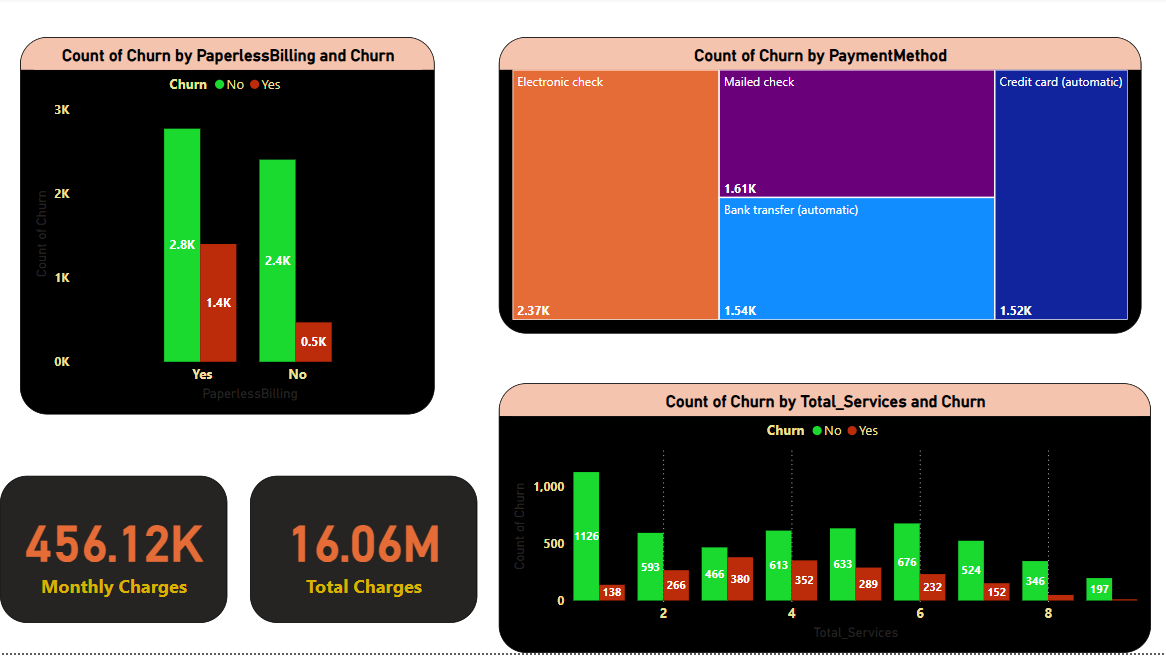

What the dashboard file says about the page in this screenshot:
{"tool":"powerbi","page":{"name":"Page 2","canvas":[1280,720],"ordinal":1},"visuals":[{"type":"clusteredColumnChart","fields":{"Category":["Cutomer_churn_analysis.PaperlessBilling"],"Series":["Cutomer_churn_analysis.Churn"],"Y":["CountNonNull(Cutomer_churn_analysis.Churn)"]},"box":[22,43.9,455.6,414.4],"z":0},{"type":"treemap","fields":{"Details":["Cutomer_churn_analysis.PaymentMethod"],"Values":["CountNonNull(Cutomer_churn_analysis.Churn)"]},"box":[547.5,43.9,705.3,325.2],"z":1},{"type":"clusteredColumnChart","fields":{"Y":["CountNonNull(Cutomer_churn_analysis.Churn)"],"Category":["Cutomer_churn_analysis.Total_Services"],"Series":["Cutomer_churn_analysis.Churn"]},"box":[547.5,424,716.3,296.4],"z":2},{"type":"card","fields":{"Values":["Sum(Cutomer_churn_analysis.MonthlyCharges)"]},"box":[0,525.6,249.7,161.9],"z":3},{"type":"card","fields":{"Values":["Sum(Cutomer_churn_analysis.TotalCharges)"]},"box":[274.4,525.6,249.7,161.9],"z":4}]}

Visuals, with their boxes in screenshot pixels (x1, y1, x2, y2), scaled from the page's 1280x720 canvas onto the 1166x656 screenshot:
clusteredColumnChart - Cutomer_churn_analysis.PaperlessBilling x Cutomer_churn_analysis.Churn: <region>20, 40, 435, 418</region>
treemap - Cutomer_churn_analysis.PaymentMethod x CountNonNull(Cutomer_churn_analysis.Churn): <region>499, 40, 1141, 336</region>
clusteredColumnChart - CountNonNull(Cutomer_churn_analysis.Churn) x Cutomer_churn_analysis.Total_Services: <region>499, 386, 1151, 655</region>
card - Sum(Cutomer_churn_analysis.MonthlyCharges): <region>0, 479, 227, 626</region>
card - Sum(Cutomer_churn_analysis.TotalCharges): <region>250, 479, 477, 626</region>
